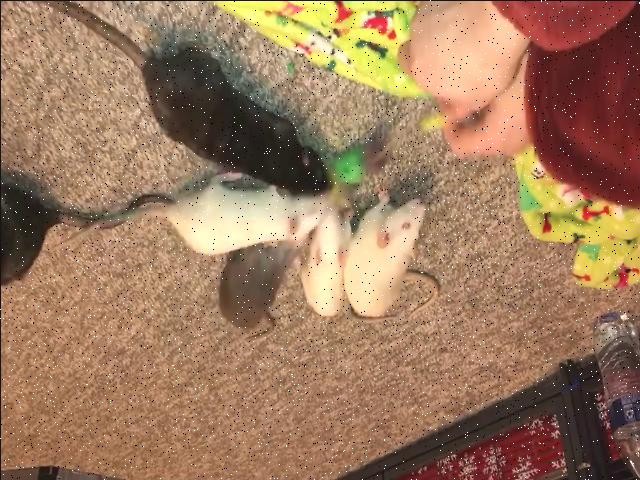Tikus: (39, 0, 331, 196), (52, 174, 322, 253), (344, 191, 440, 321), (218, 241, 296, 342), (296, 202, 347, 315)
